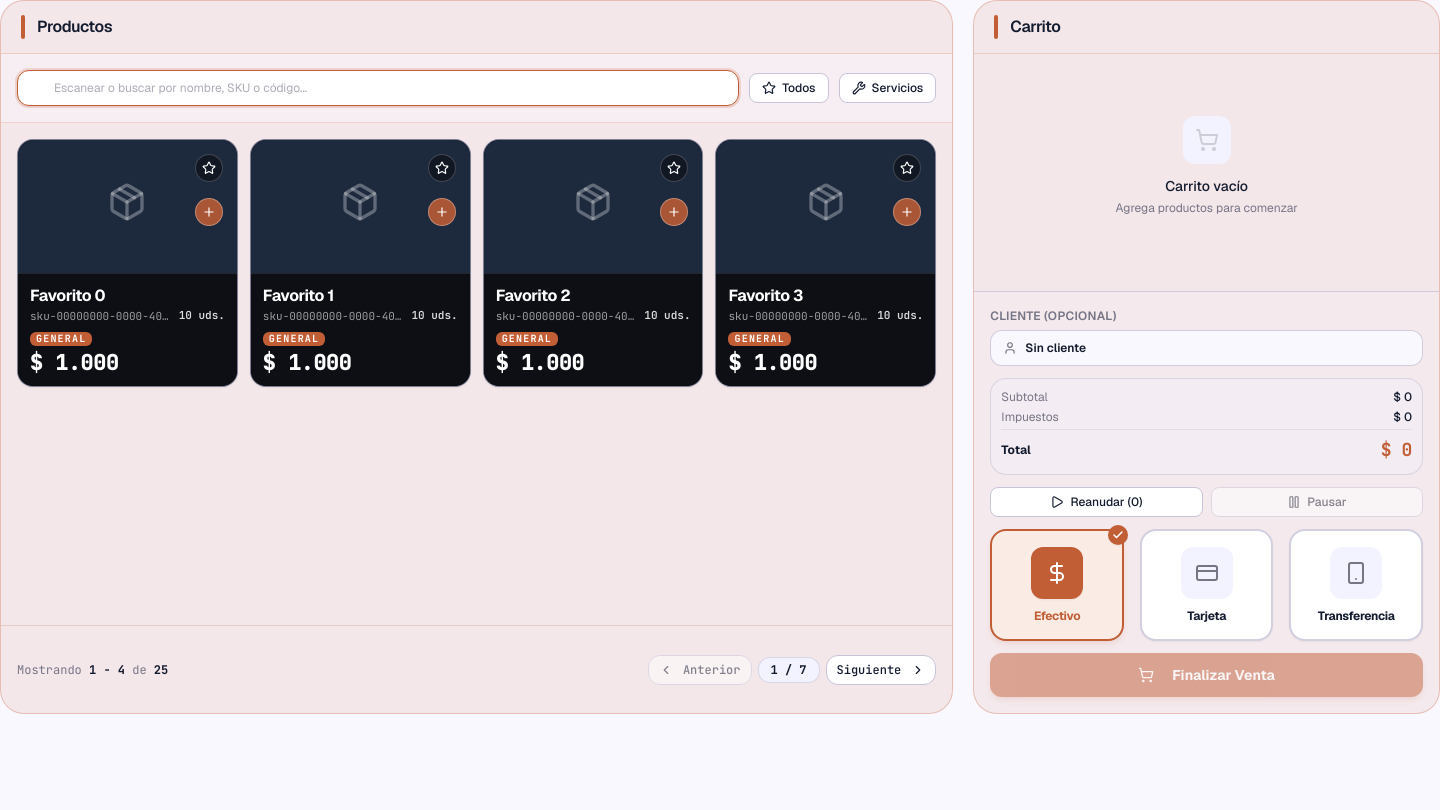
POS behavior evidence (#19, #18) › reaches saved favorites beyond the first adaptive page with a multi-page pager
Click the button "Todos". click: click(789, 88)
box: [749, 73, 829, 103]
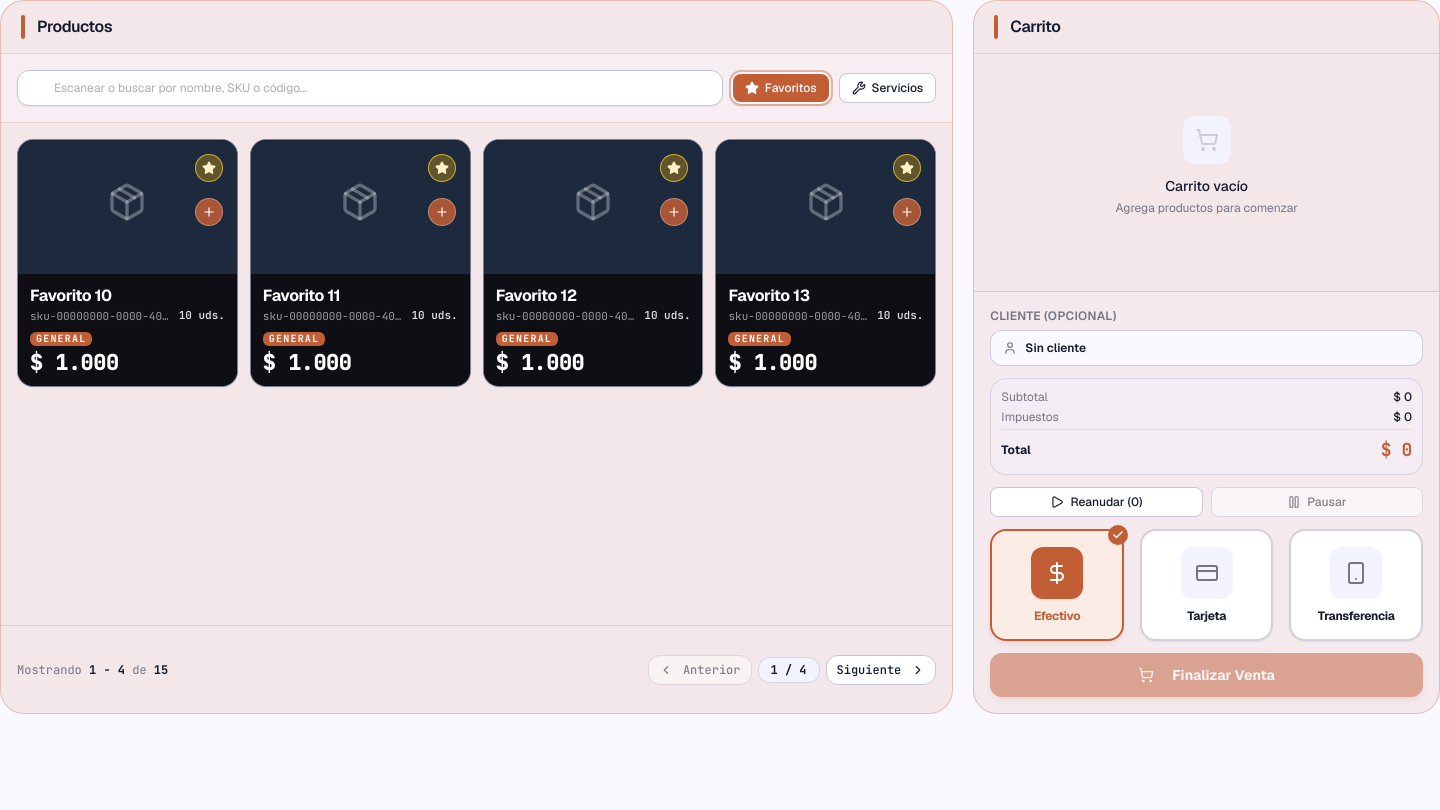
Check: the heading "Favorito 10" is shown, box [30, 285, 112, 306]
Click the button "Siguiente". click: click(881, 670)
box: [826, 654, 936, 684]
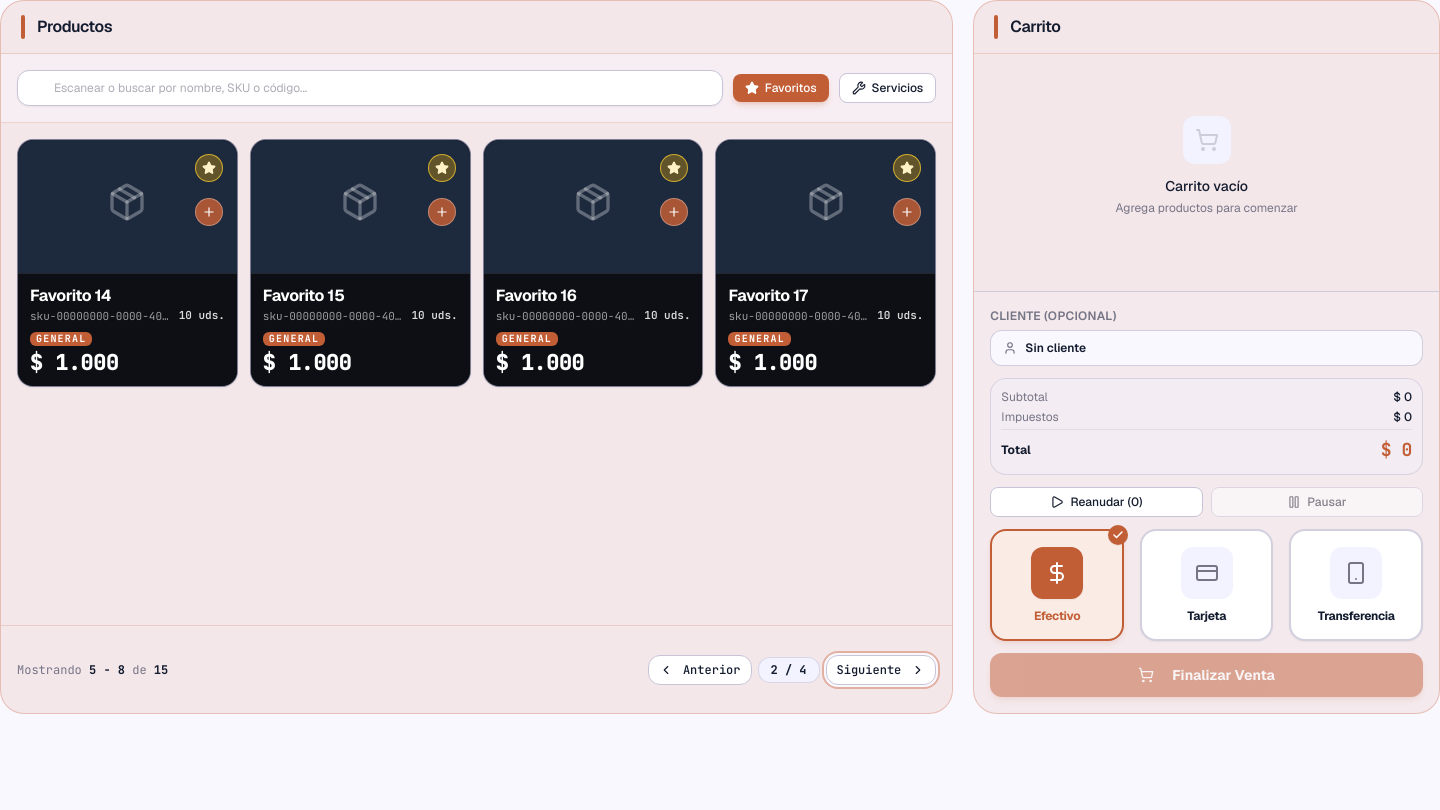
Click the button "Siguiente". click: click(881, 670)
box: [826, 654, 936, 684]
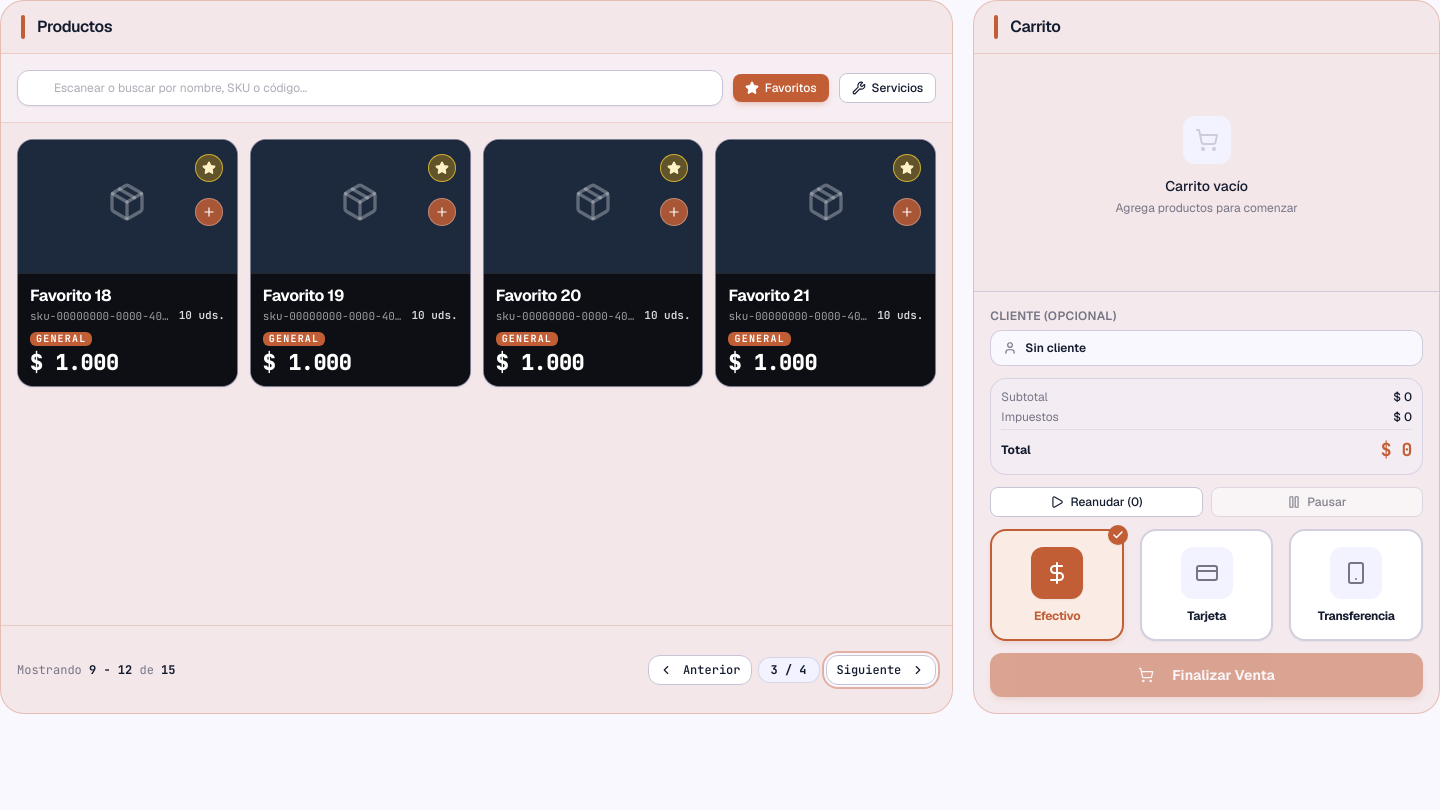
Click the button "Siguiente". click: click(881, 670)
box: [826, 654, 936, 684]
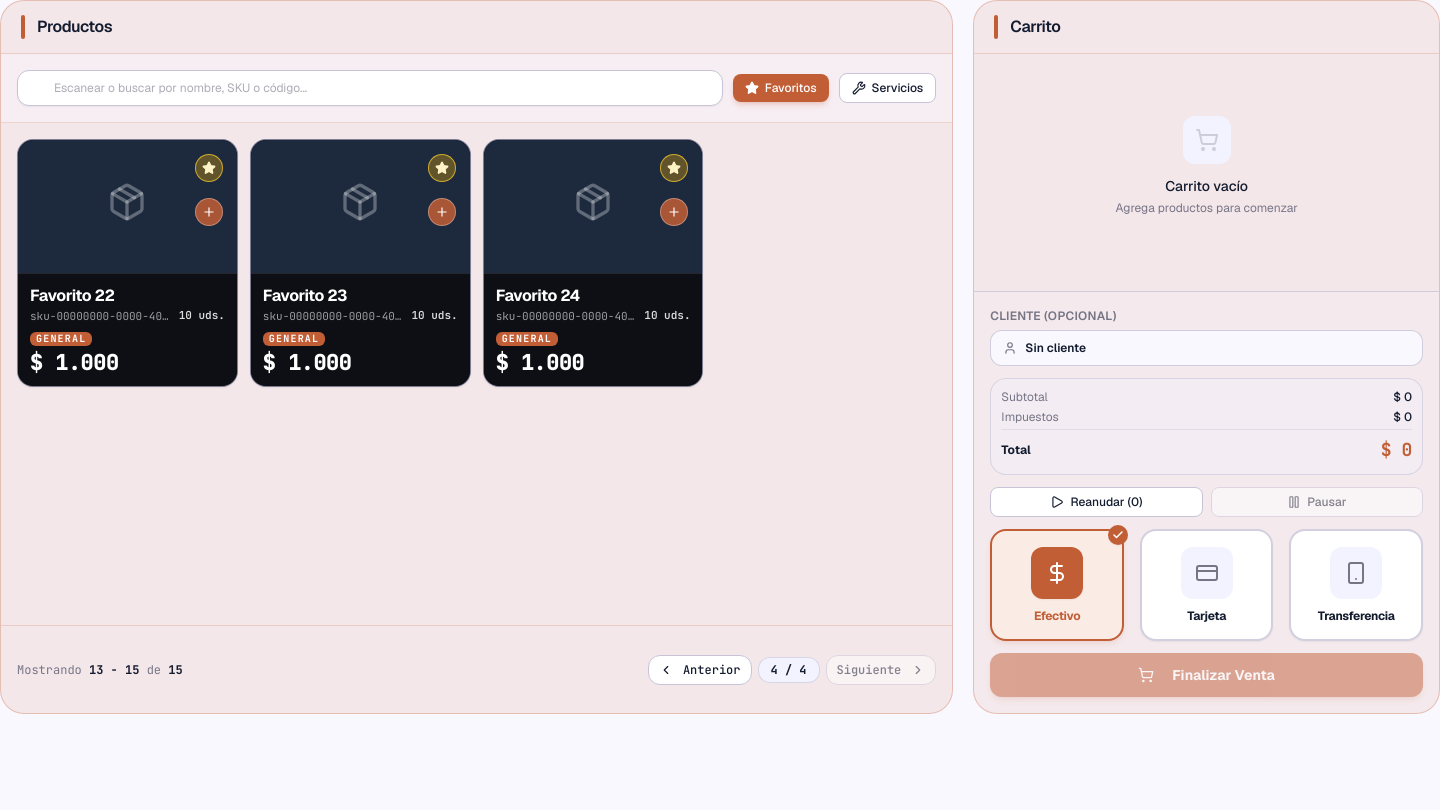
Check: the heading "Favorito 24" is shown, box [496, 285, 580, 306]
